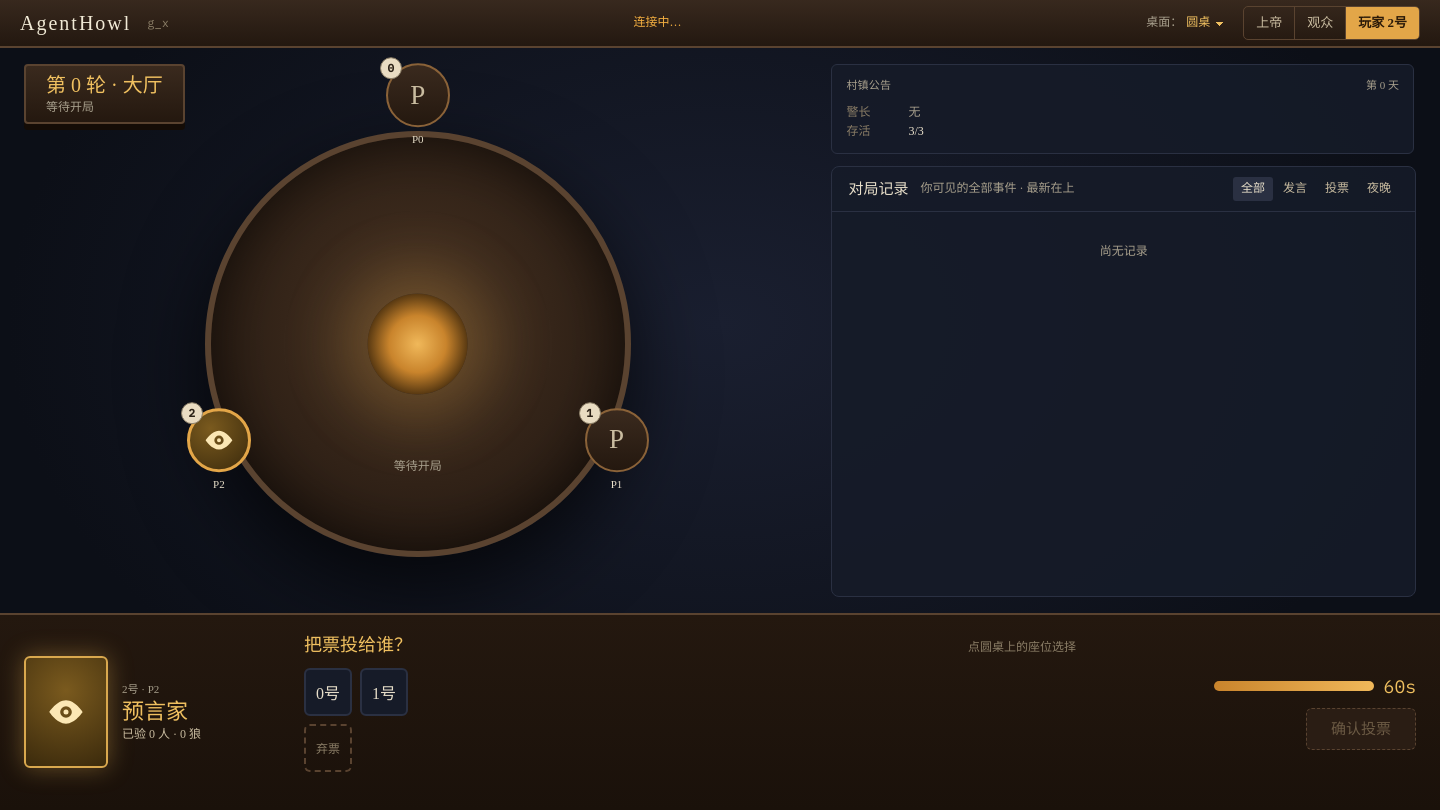
Scenario: GamePage 玩家视角（issue #115） › 投票回合：点桌上可选座位 → HUD 胶囊同步选中（aria-pressed）
Expected: the text "2号 · P2" is shown, [122,683,159,695]
Expected: the button named "2号 P2" is disabled, [183,408,255,510]
Step 1. Click the button named "0号 P0" → (418, 114), box [382,64,454,165]
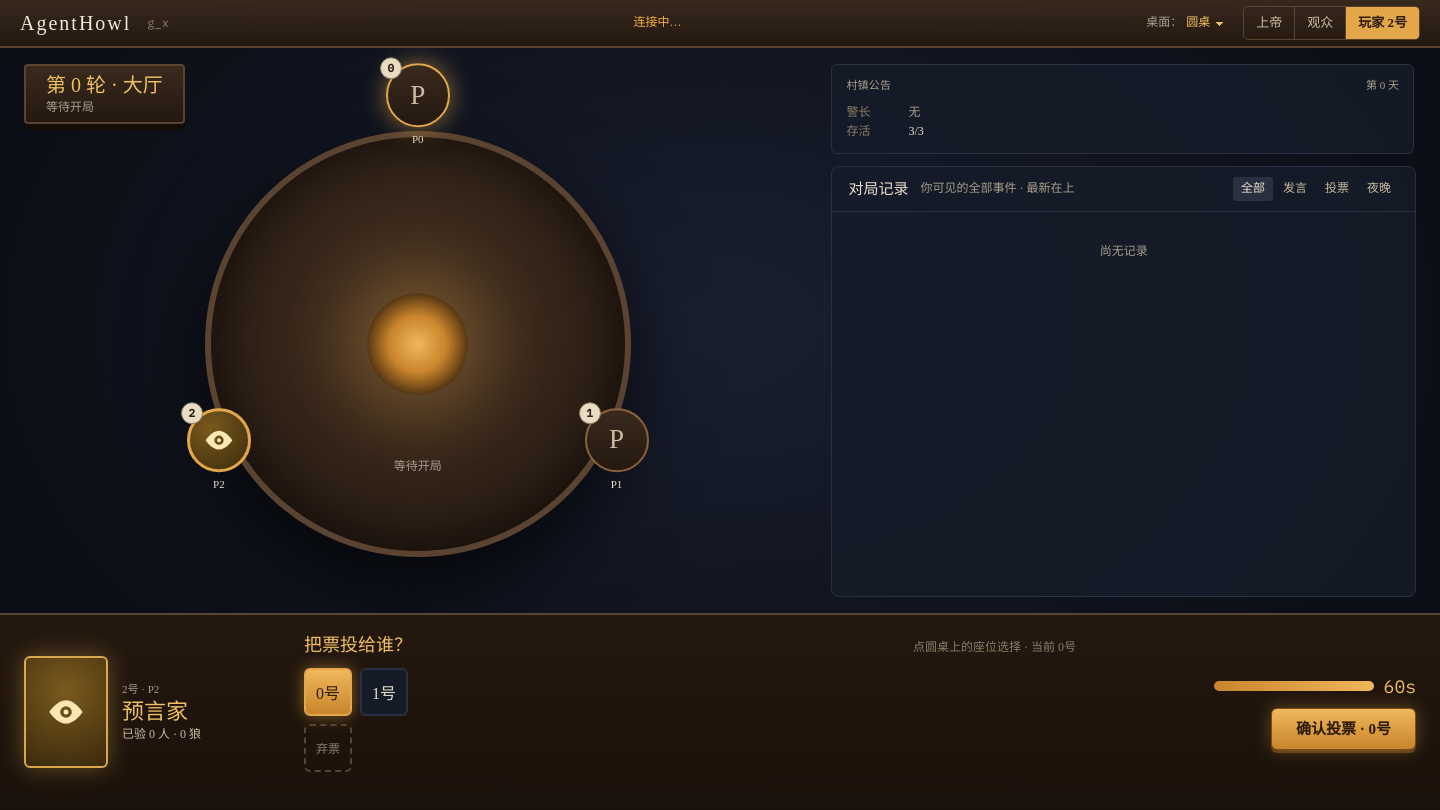
Expected: the button "确认投票 · 0号" is enabled, [1271,708,1416,750]
